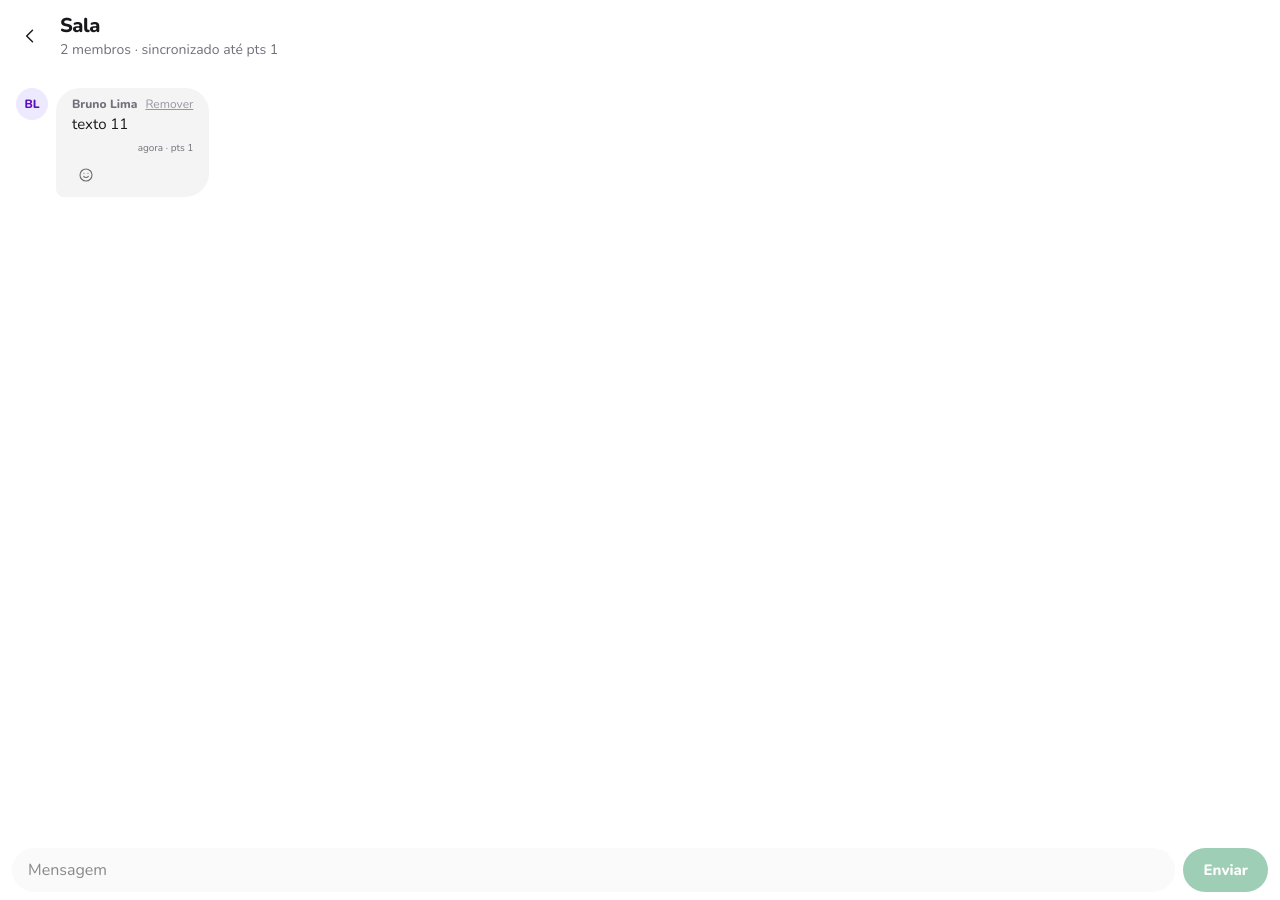
<Channel> grupo fechado e remoção (docs/14, C-1 e C-2) › quem administra vê "Remover" nas mensagens de outras pessoas, e a remoção confirma antes
The width and height of the screenshot is (1280, 900).
Click the button "Remover" at (169, 104), box [145,96,193,112]
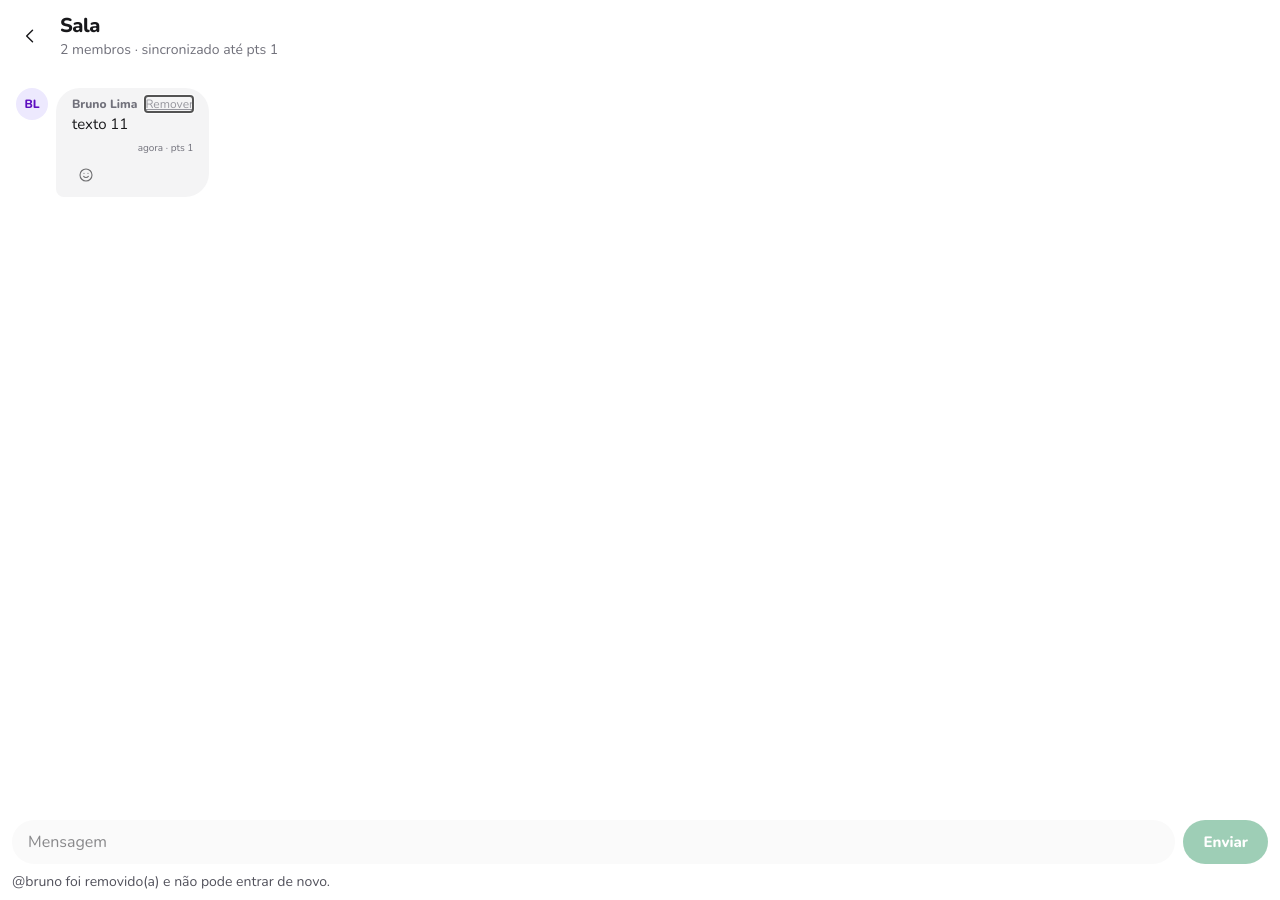
expect the text "@bruno foi removido(a) e não pode entrar de novo." is shown: met, box [12,872,330,891]
